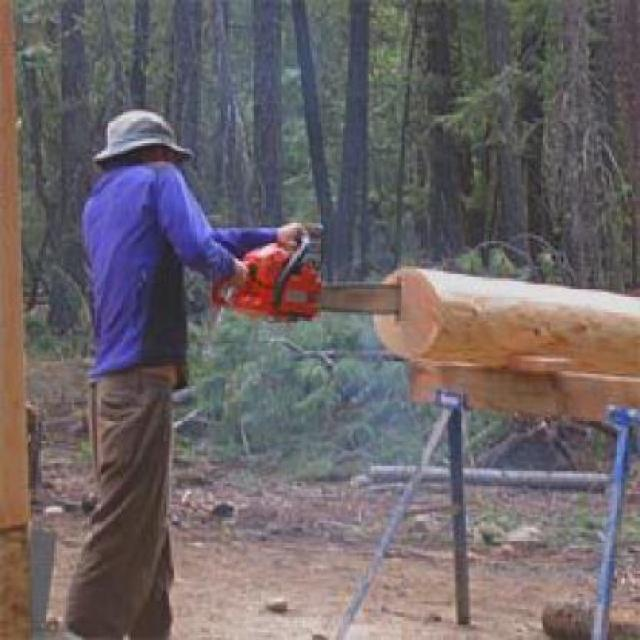Chainsaw: (209, 222, 397, 326)
